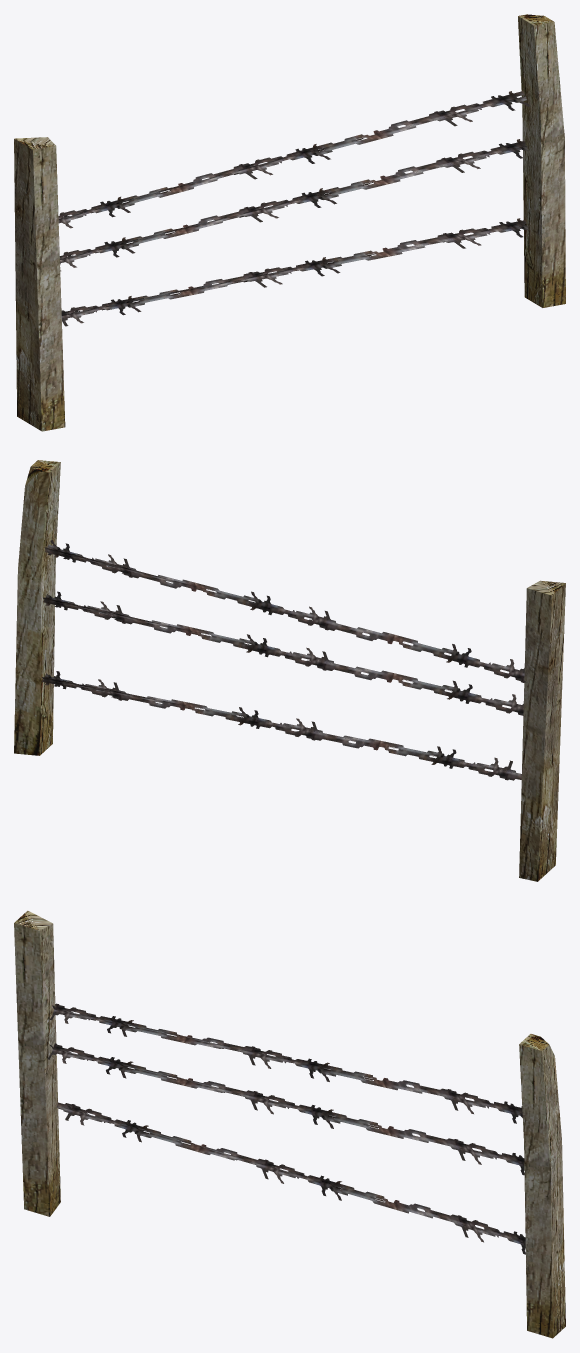
File: FenceE.FBX
The picture shows the model from 3 angles, top to bottom: view 1: azimuth 30°, elevation 25°; view 2: azimuth 150°, elevation 25°; view 3: azimuth 330°, elevation 25°; orthographic projection.
Visible parts, largest first — view 1: FenceE; view 2: FenceE; view 3: FenceE.
Boxes of the visible parts, left/top/right/bottom form: FenceE: left=14, top=14, right=565, bottom=431; FenceE: left=14, top=460, right=565, bottom=881; FenceE: left=14, top=910, right=565, bottom=1338.
Size of the model in its own units: 10.01 by 5.1 by 0.7094.
